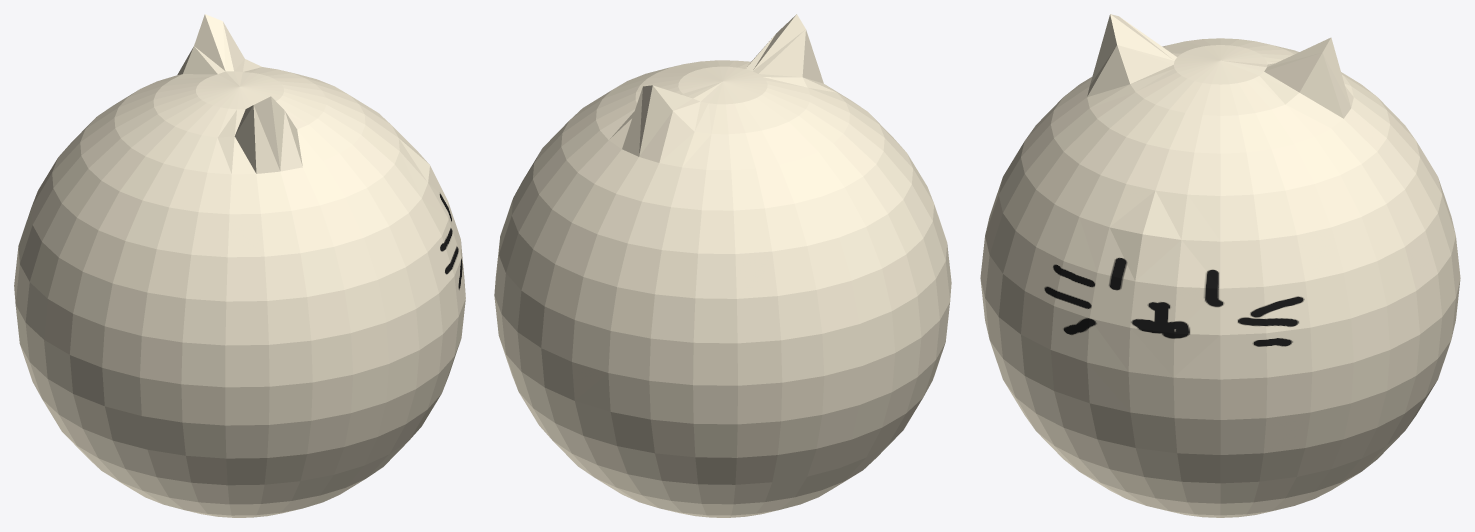
Rendered from player.obj.
3 renders of one model, left to right at view 1: azimuth 30°, elevation 25°; view 2: azimuth 150°, elevation 25°; view 3: azimuth 270°, elevation 25°, orthographic. The views are drawn at different scales.
Parts seen in each view (by area): view 1: 球; view 2: 球; view 3: 球.
Boxes of the visible parts, bbox=[...] form: 球: bbox=[14, 14, 465, 517]; 球: bbox=[494, 14, 951, 517]; 球: bbox=[980, 14, 1460, 517].
Bounding box in the file's own units: 1.08 × 1.17 × 1.08.
1 material, 1 textured.
